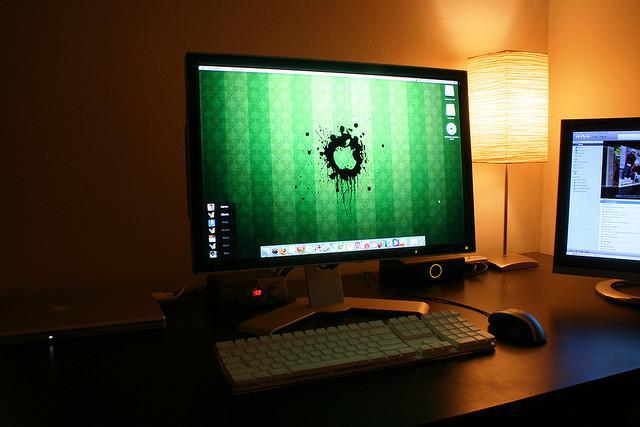tv: (174, 35, 488, 269), (556, 111, 638, 293)
